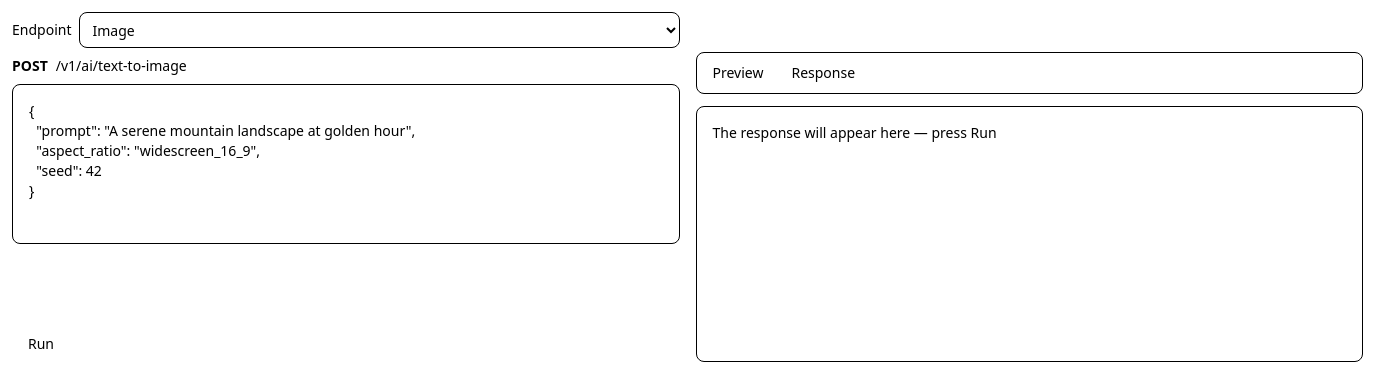
Test: ApiRequestPlayer › run → pending → done con la respuesta completa (reduced-motion: sin typing)
What coordinates should you click on to do the following:
click the button "Run"
I would click on:
 (41, 344)
Its box is [12, 326, 70, 362].
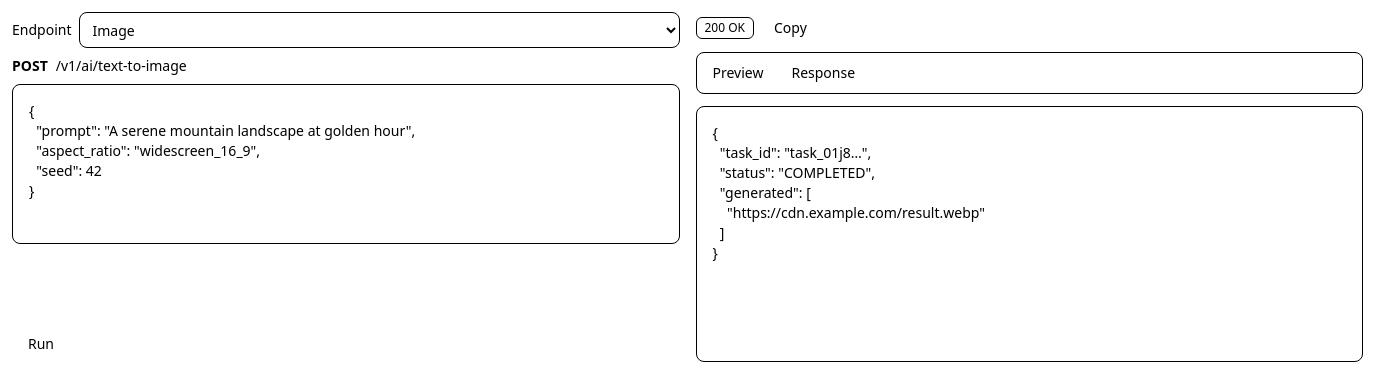
Now the text "COMPLETED" is shown, box [712, 123, 985, 262]
Now the text "200 OK" is shown, box [696, 17, 754, 39]
